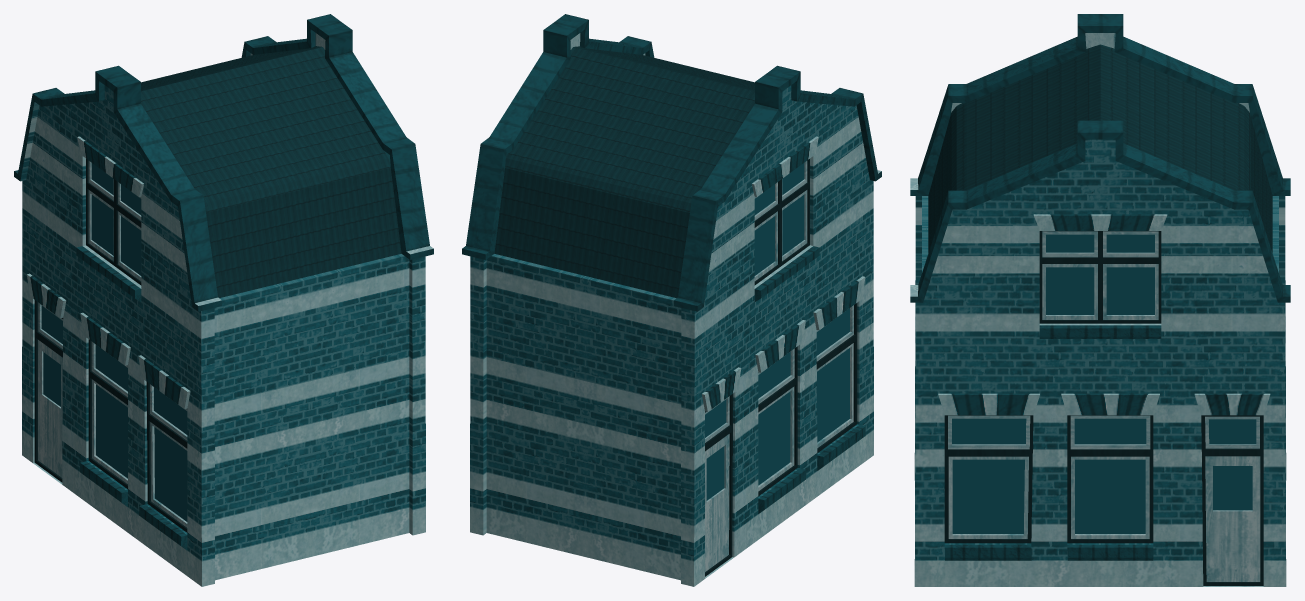
File: End1_House1.fbx
The picture shows the model from 3 angles, left to right: view 1: azimuth 30°, elevation 25°; view 2: azimuth 150°, elevation 25°; view 3: azimuth 270°, elevation 25°; orthographic projection. The views are drawn at different scales.
Parts seen in each view (by area): view 1: Cube1.001; view 2: Cube1.001; view 3: Cube1.001.
Boxes of the visible parts, x1,y1,x2,y2 form: Cube1.001: (14,14,433,586); Cube1.001: (462,14,881,586); Cube1.001: (910,14,1290,586).
Size of the model in its own units: 11.52 by 15.27 by 8.53.
Materials: 1 (1 with a texture image).
